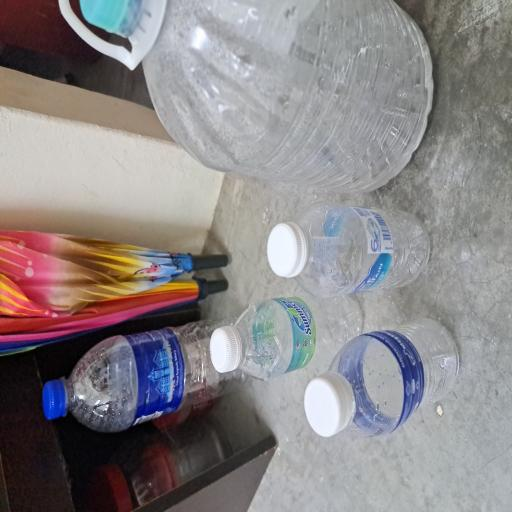plastic bottle: (240, 168, 384, 512), (58, 86, 146, 328), (100, 310, 166, 484), (163, 388, 232, 512), (56, 437, 146, 512)
plastic bottle cap: (56, 404, 105, 466), (176, 355, 218, 406), (358, 104, 384, 176), (105, 280, 141, 320), (69, 56, 100, 87)
